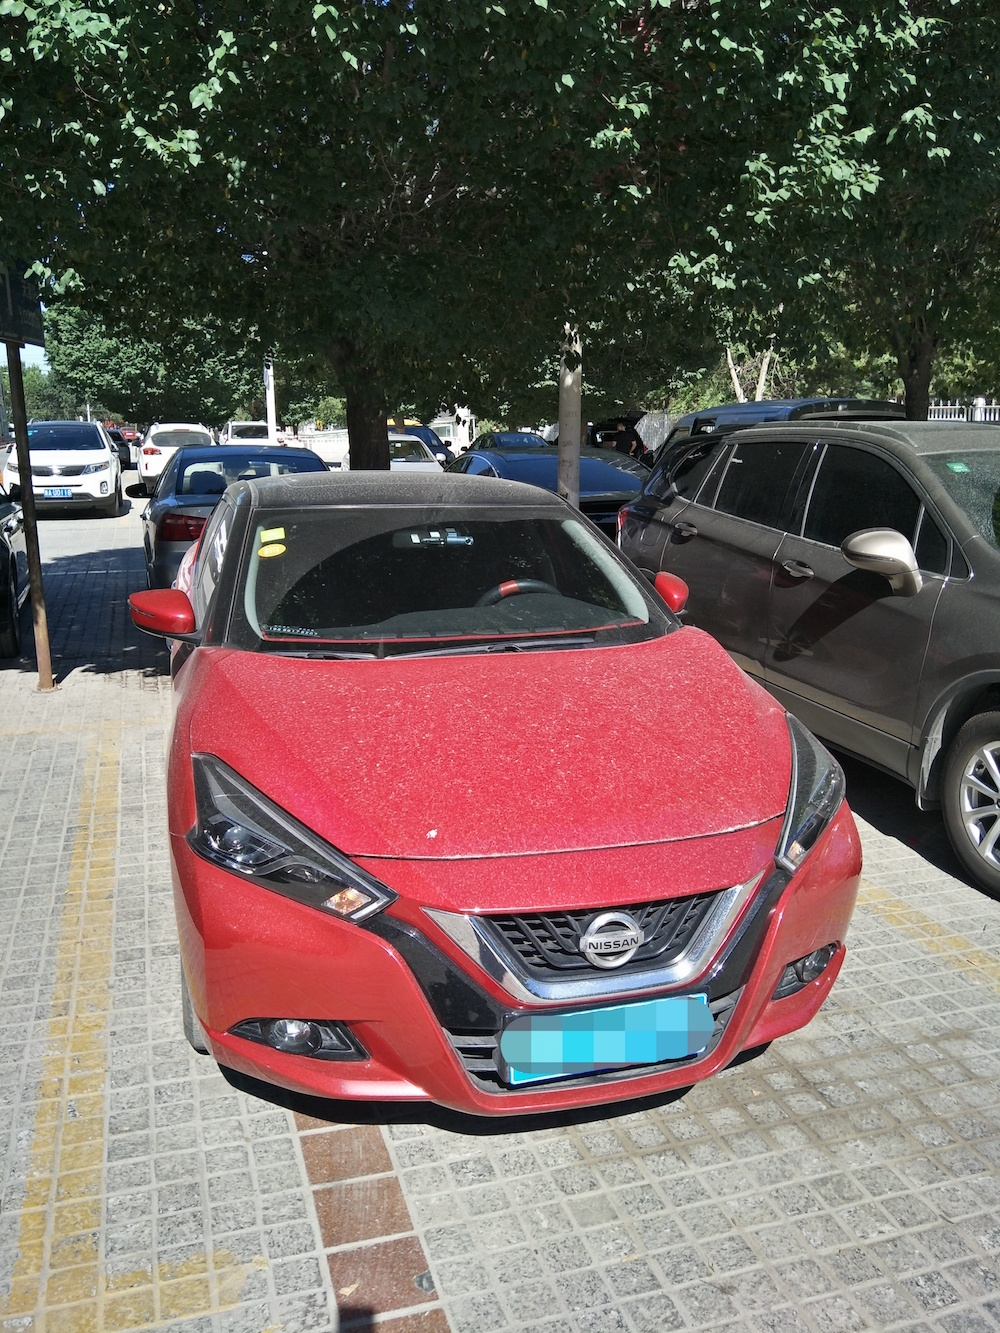family sedan: (124, 449, 898, 1109)
